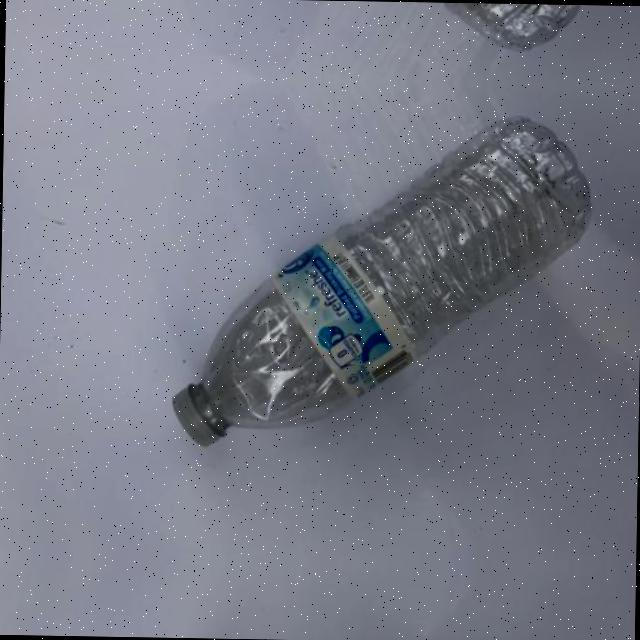Plastic: (154, 89, 602, 463), (160, 0, 603, 71)
